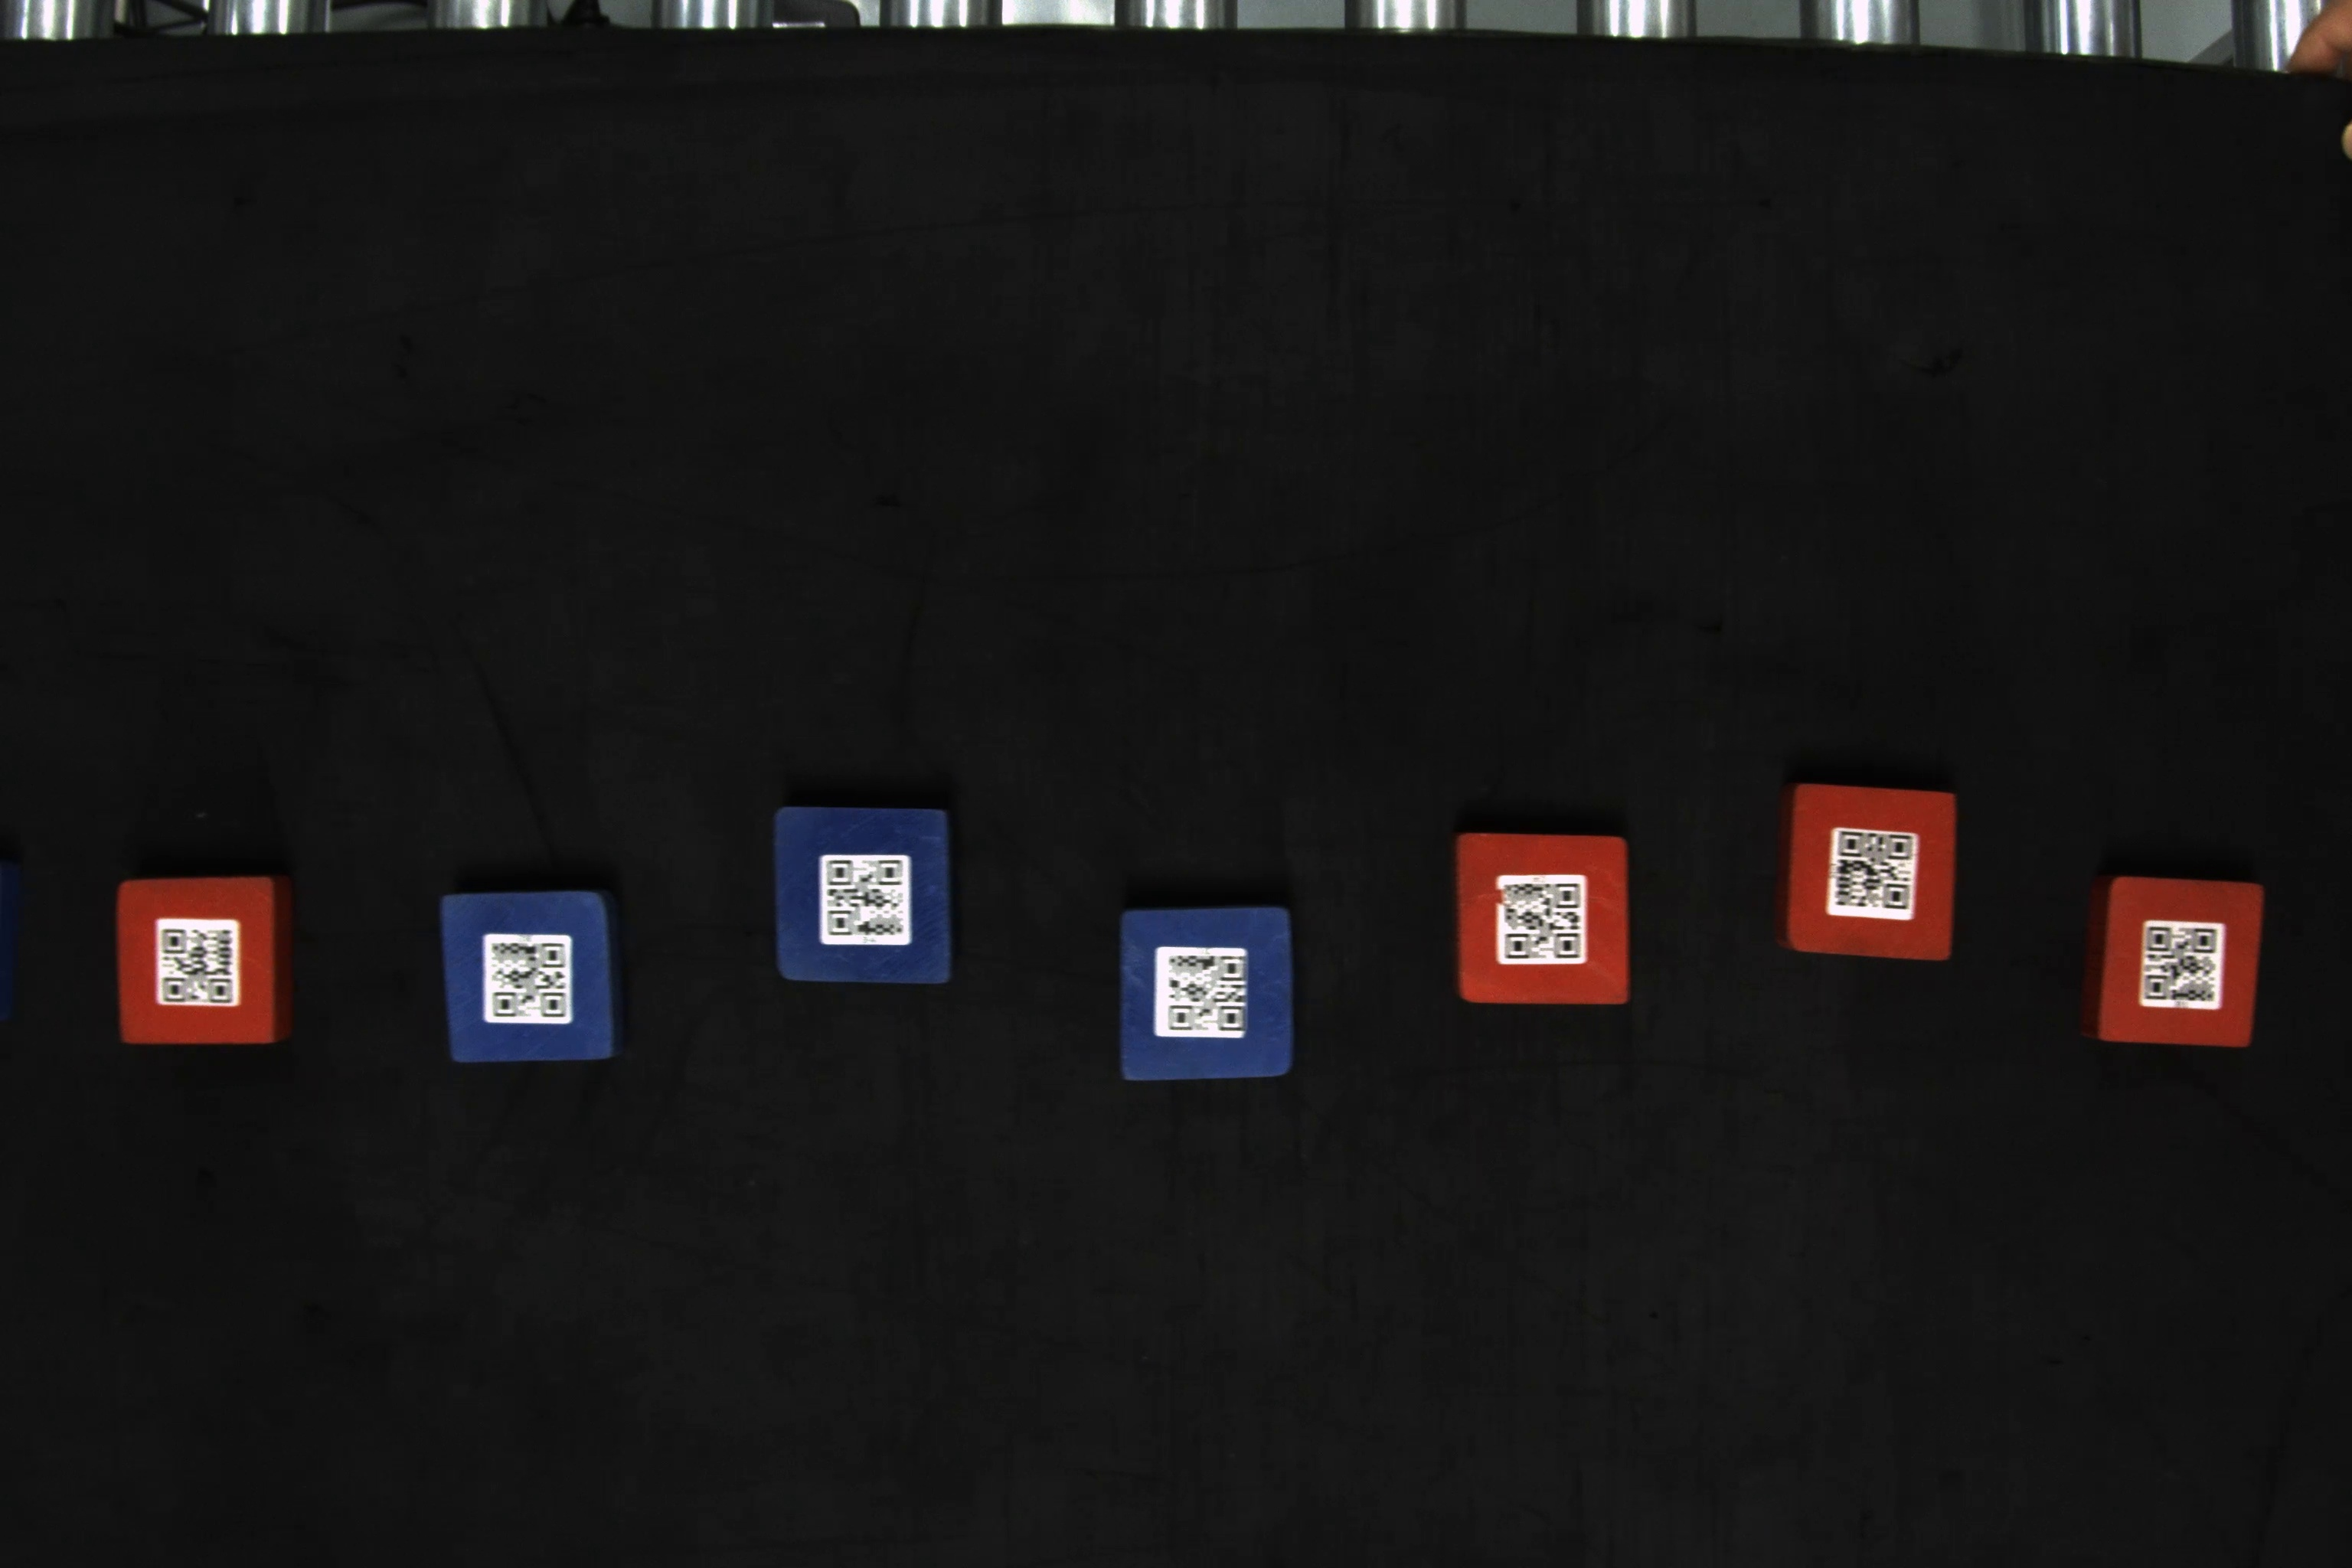wood: (761, 803, 968, 992), (1766, 775, 1967, 968), (1444, 822, 1641, 1017), (1115, 901, 1302, 1090), (2084, 873, 2268, 1053), (108, 873, 294, 1050), (437, 891, 614, 1073)
